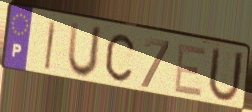7: (140, 36, 171, 90)
C: (104, 32, 136, 84)
E: (172, 42, 209, 100)
I: (43, 19, 58, 73)
U: (206, 45, 246, 106), (65, 20, 105, 81)
